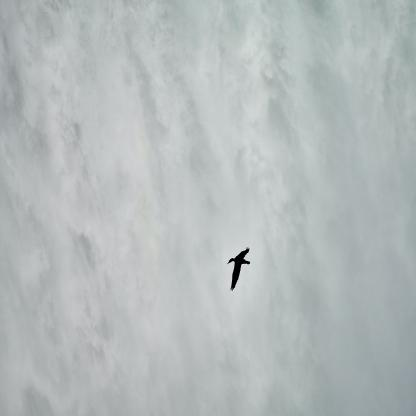bird: (228, 247, 250, 291)
